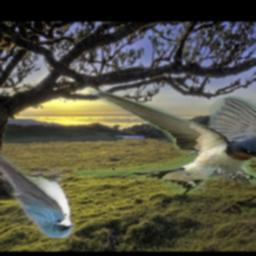Swallow: (76, 88, 256, 194), (0, 150, 77, 239)
